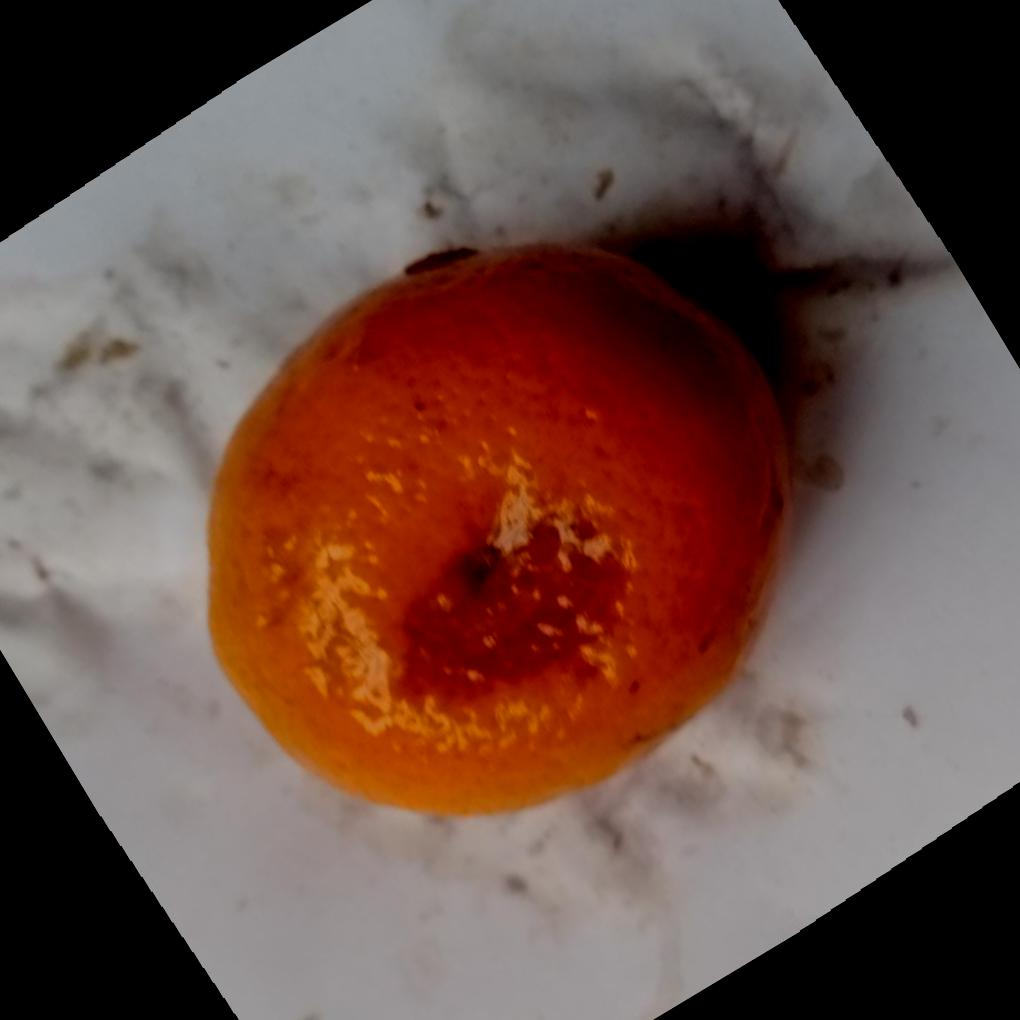FreshOrange: (202, 239, 793, 815)
